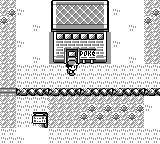leer: (33, 112, 48, 127)
main: (66, 61, 79, 75)
no-caminable: (51, 1, 109, 63)
puerta: (66, 49, 77, 63)
salto: (16, 88, 160, 96)
